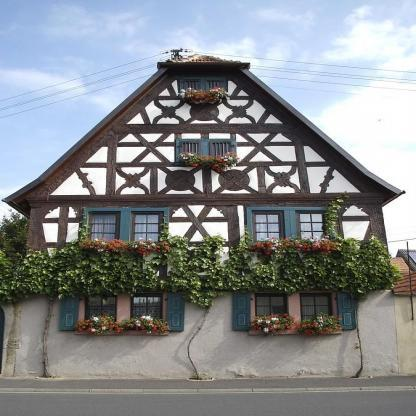Blind: (165, 292, 185, 332), (336, 292, 356, 330), (60, 292, 80, 330), (232, 292, 250, 330)
Building Outline: (1, 54, 406, 378)
Dont: (0, 190, 404, 307), (73, 312, 173, 336), (176, 151, 243, 175), (177, 86, 231, 104)
Facade: (30, 179, 380, 378)
Floor: (23, 198, 393, 286)
Floor Slab: (30, 192, 382, 201), (23, 283, 393, 291)
Ground Floor: (15, 288, 399, 378)
Roof: (1, 54, 406, 220)
Top Floor: (30, 67, 381, 195)
Window: (299, 293, 333, 330), (255, 293, 289, 330), (84, 293, 117, 330), (130, 293, 162, 330), (296, 210, 330, 242), (251, 210, 285, 242), (130, 211, 163, 243), (88, 211, 121, 243), (179, 141, 201, 160), (209, 141, 230, 160), (206, 80, 222, 94), (184, 80, 200, 94)
Window Outline: (82, 208, 169, 247), (246, 207, 333, 245), (176, 139, 237, 162), (179, 76, 227, 97)
